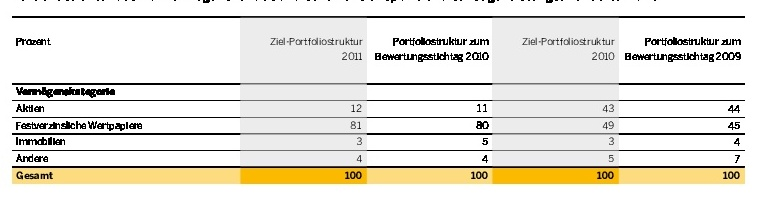table: (0, 0, 760, 199)
